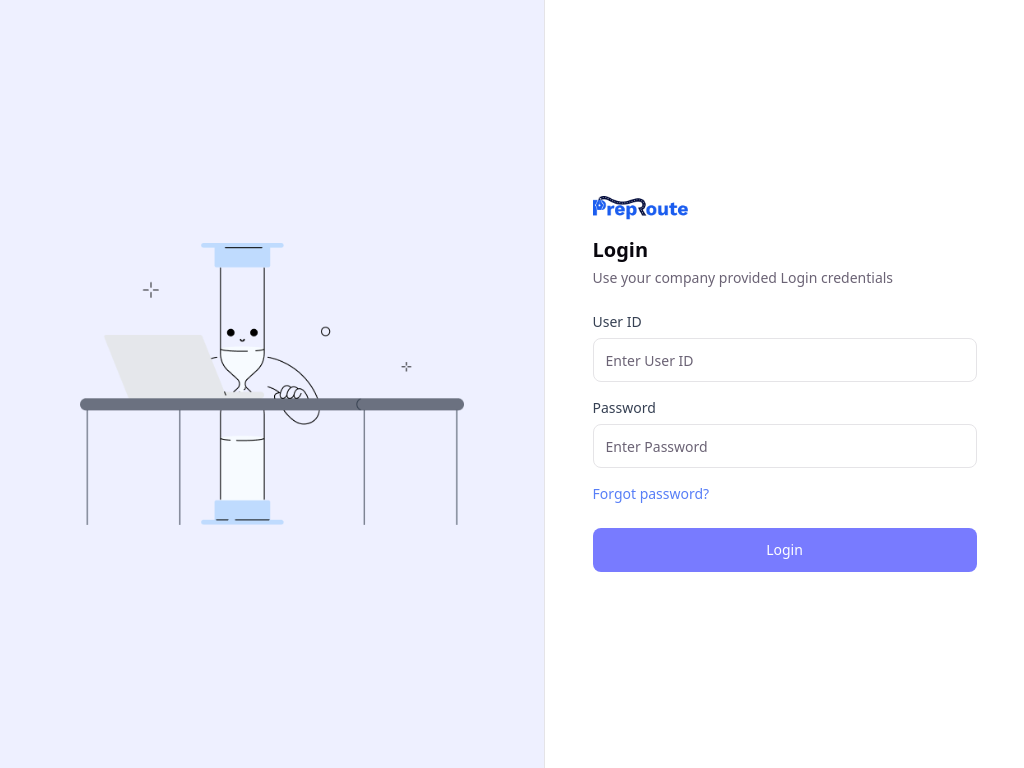
it: LoginPage › shows the server error message on failed login without redirecting
Type "vedant-admin" into the field labelled "User ID" at (784, 360), box left=592, top=338, right=976, bottom=382
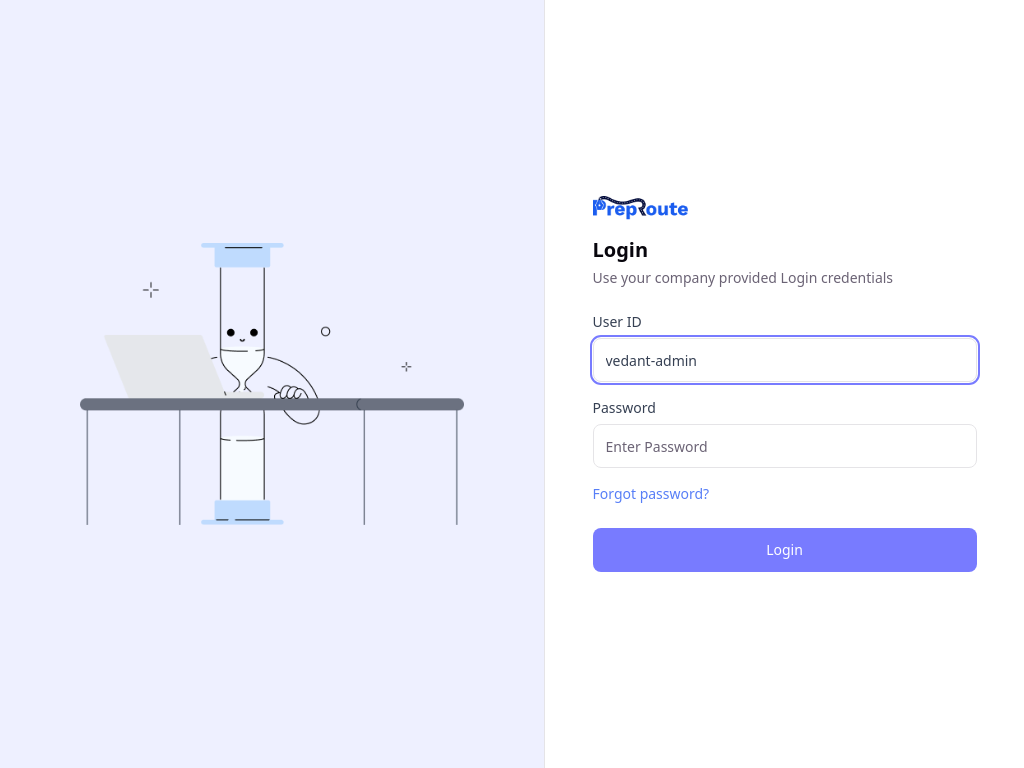
Type "wrong-password" into the password field labelled "Password" at (784, 446), box left=592, top=424, right=976, bottom=468
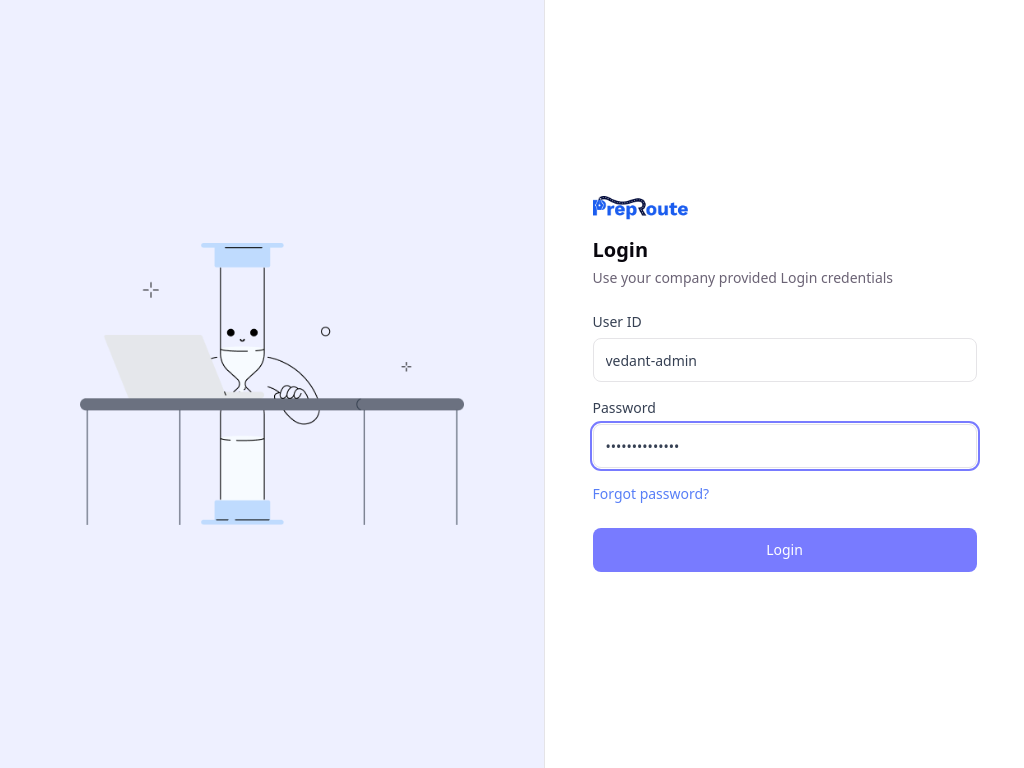
Click the button "Login" at (784, 550), box left=592, top=528, right=976, bottom=572
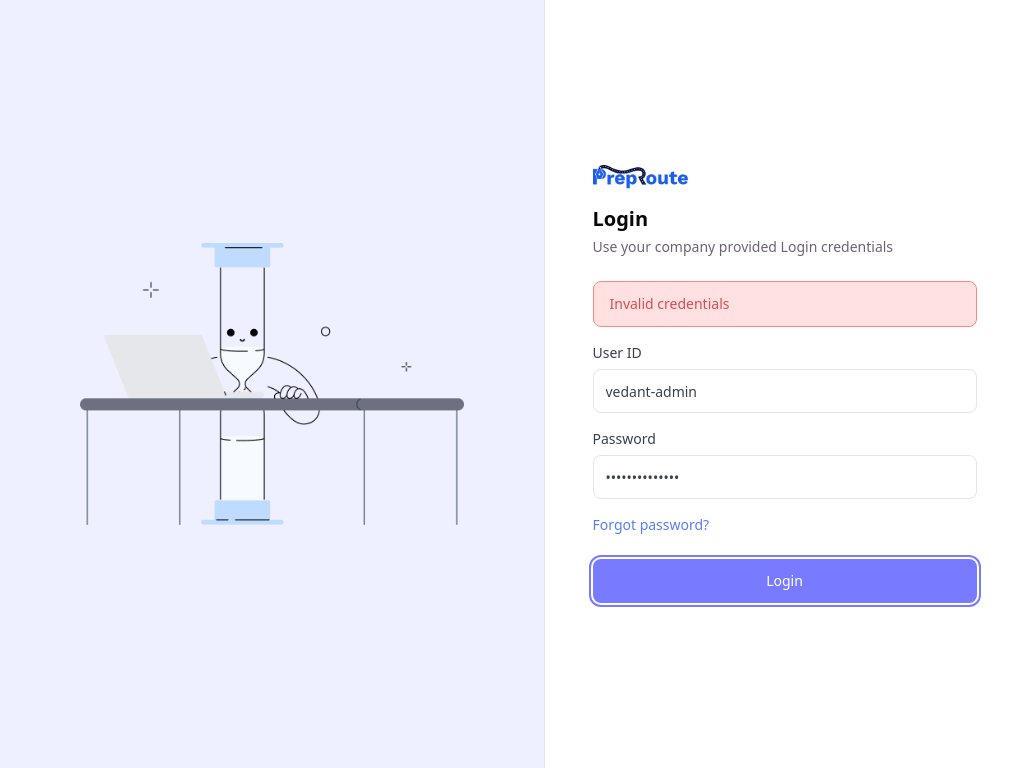
Expected: the message reads "Invalid credentials", left=610, top=294, right=730, bottom=313
